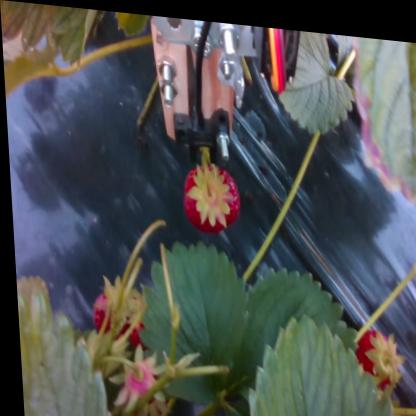ripe: (183, 161, 238, 226), (353, 325, 391, 380), (120, 297, 156, 342), (90, 291, 125, 331)
